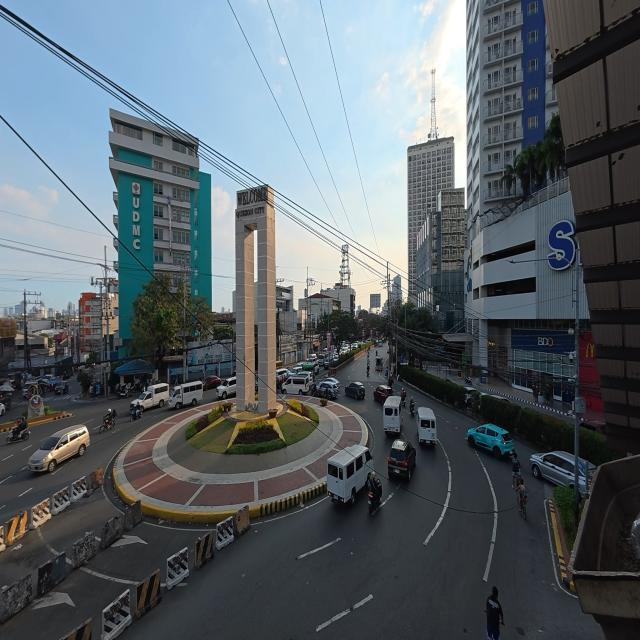car: (28, 425, 89, 472), (467, 424, 514, 459), (530, 451, 574, 488), (388, 439, 415, 480), (217, 377, 236, 399), (318, 381, 339, 399), (580, 420, 606, 434), (345, 381, 365, 399), (374, 385, 393, 403), (481, 392, 511, 403), (203, 376, 221, 390), (276, 368, 289, 386), (465, 387, 477, 405), (23, 383, 37, 398), (45, 378, 61, 391), (55, 381, 69, 394), (325, 377, 340, 388), (0, 396, 12, 409), (290, 365, 302, 375), (62, 371, 72, 380), (323, 356, 330, 368), (308, 354, 317, 361), (0, 403, 5, 415), (332, 354, 339, 362)
motorcycle: (7, 428, 29, 444), (100, 412, 116, 433), (368, 492, 379, 513), (130, 406, 142, 421), (117, 386, 129, 398), (0, 397, 11, 409), (401, 392, 406, 406), (465, 375, 472, 384), (410, 406, 414, 417), (367, 368, 369, 377)
vans: (327, 445, 372, 503), (130, 384, 169, 410), (169, 381, 202, 409), (417, 407, 436, 445), (384, 396, 402, 434), (282, 375, 310, 394), (217, 377, 236, 399), (303, 360, 319, 375), (276, 368, 289, 385), (290, 365, 302, 374)
